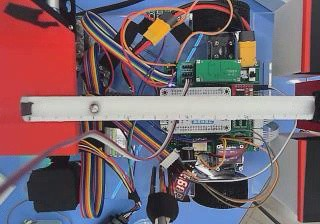ironball: (88, 102, 99, 113)
